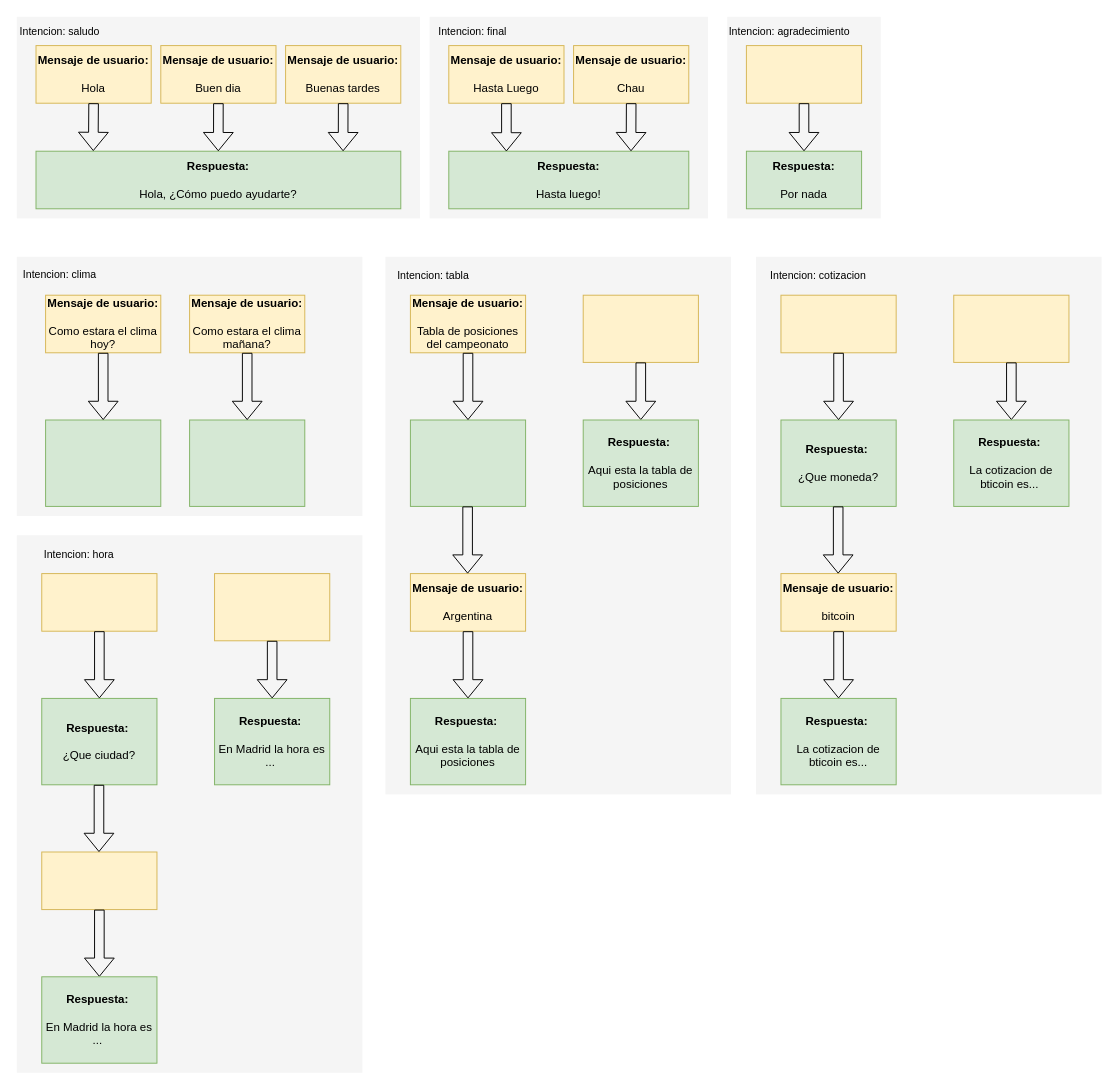
Some shapes in this 1117 by 1089 pixel diagram are drawn without their labels. The shapes that lost their labels are listed below. From the top down, each one's centre as x and y in pixels, then its label:
pixel 803 74: Mensaje de usuario: Gracias
pixel 640 328: Mensaje de usuario: Tabla de posiciones del campeonato Argentino
pixel 838 323: Mensaje de usuario: Cotizacion
pixel 1011 328: Mensaje de usuario: Cotizacion del bitcoin / a cuanto esta el bitcoin
pixel 103 462: Respuesta: Se espera una temperatura de 27º, con probabilidad de precipitaciones
pixel 247 462: Respuesta: Se espera una temperatura de 32º, sera un dia soleado
pixel 467 462: Respuesta: ¿De que país?
pixel 99 602: Mensaje de usuario: que hora es
pixel 272 607: Mensaje de usuario: Que hora es en Madrid?
pixel 99 880: Mensaje de usuario: Madrid
